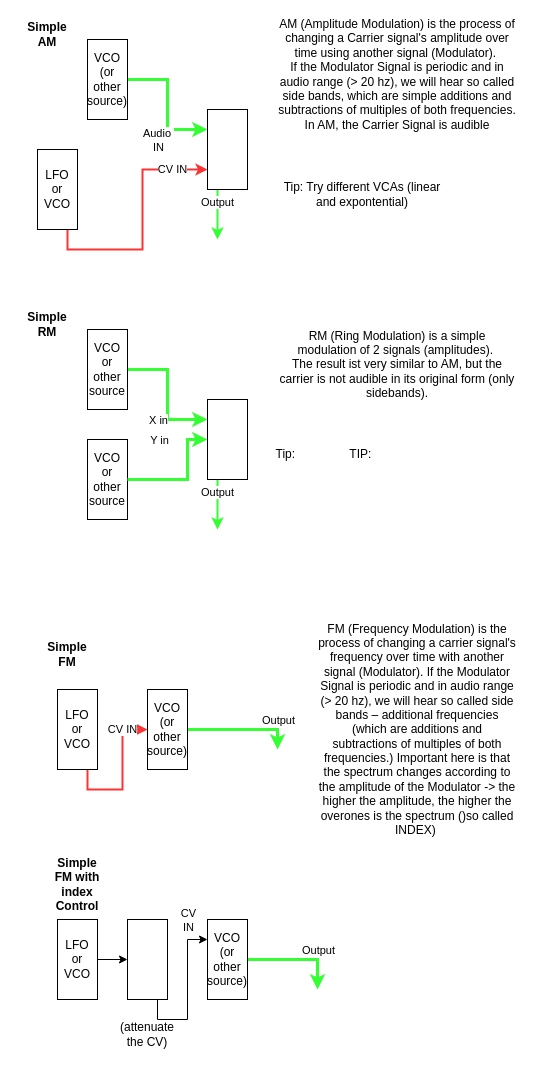
The diagram is 534 pixels wide and 1067 high, and some of its shapes have lost their labels. The centre of each missing label's shape, as x and y in pixels:
Ring Mod: (227,439)
VCA: (227,149)
VCA (linear): (147,959)
